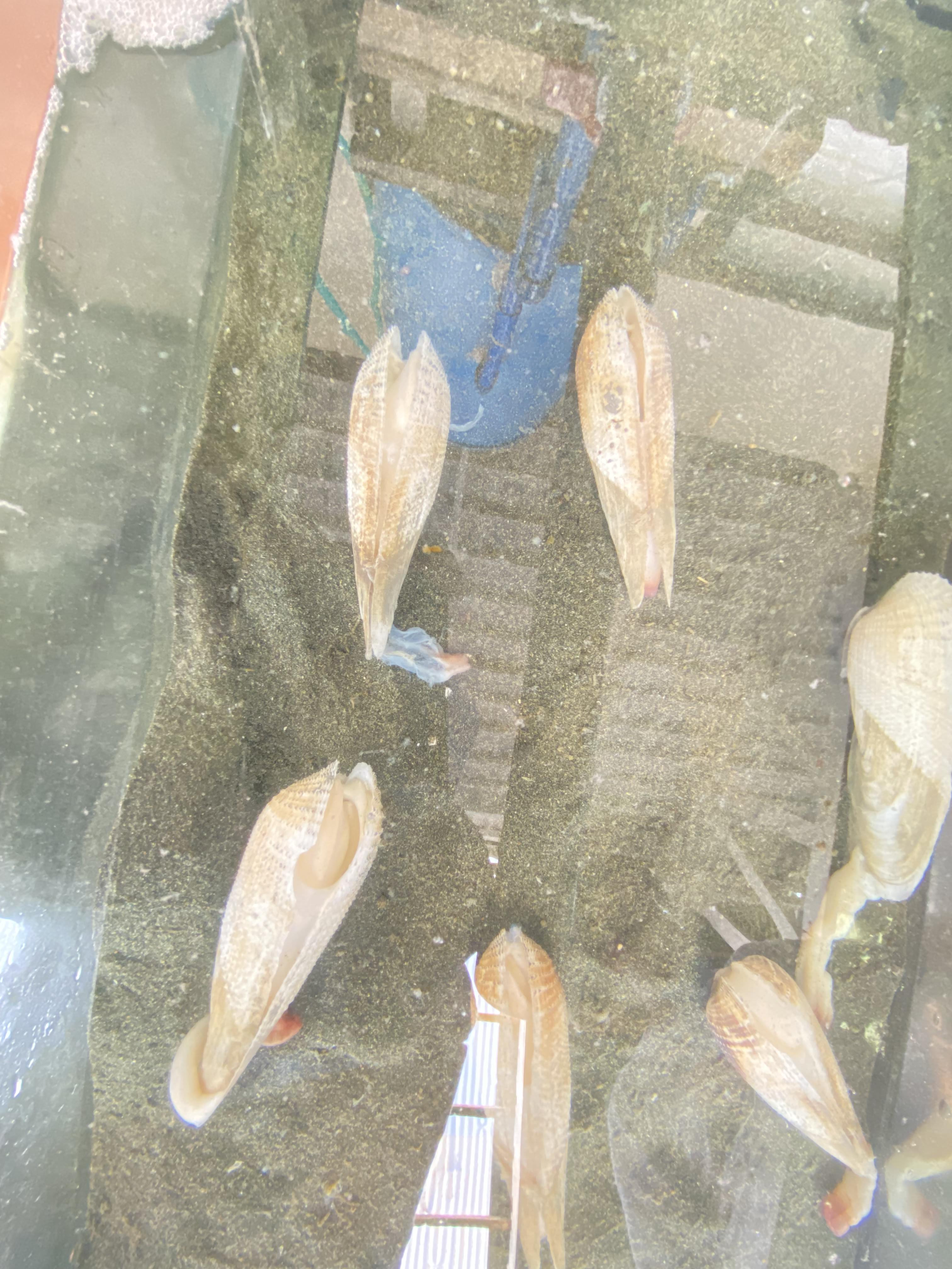At risk: (706, 573, 952, 1236), (170, 762, 382, 1126), (347, 327, 470, 684), (575, 286, 676, 609), (476, 927, 571, 1269), (886, 1063, 952, 1237)
